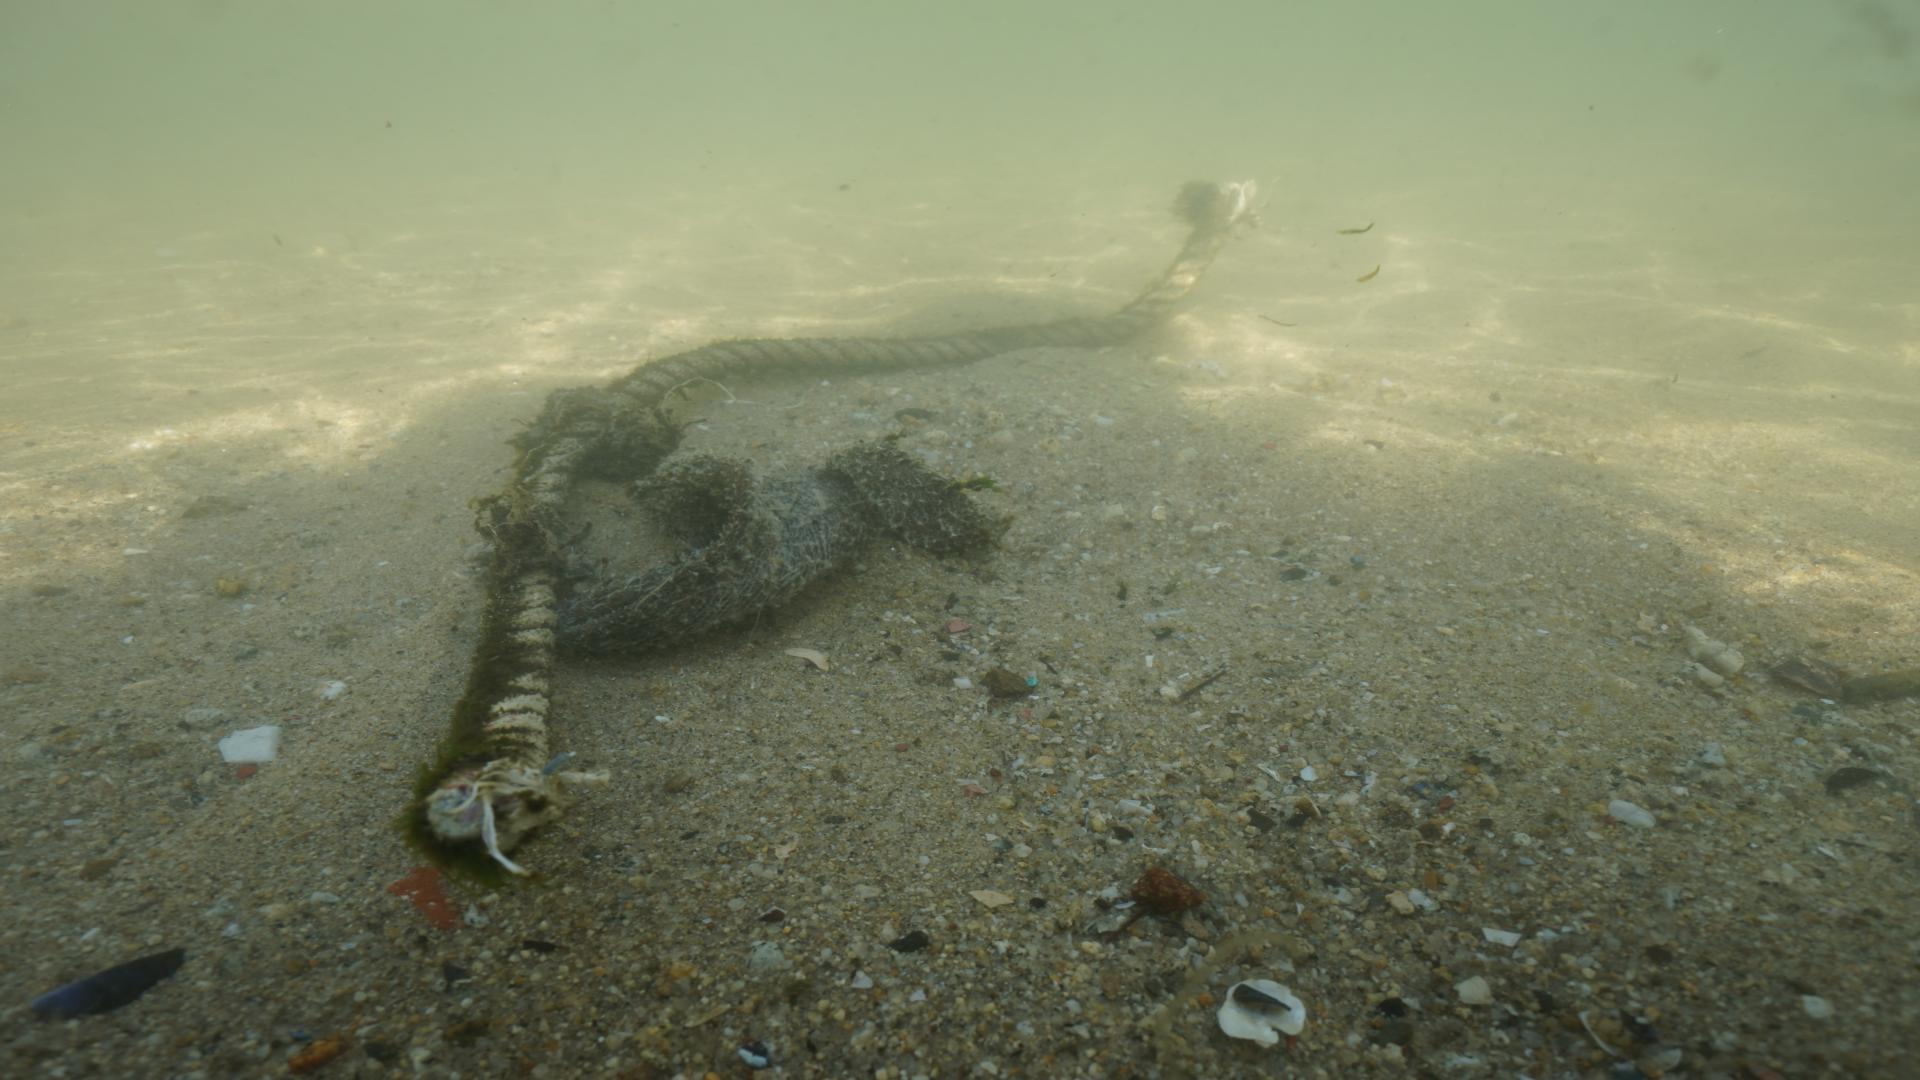rope: (448, 195, 1240, 789)
